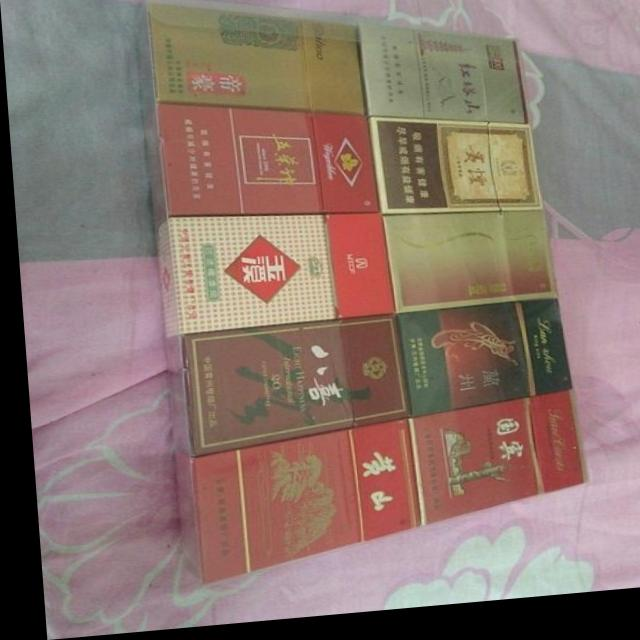box: (474, 154, 640, 343), (176, 184, 339, 369), (35, 200, 208, 372), (329, 171, 488, 356), (464, 34, 613, 171), (85, 76, 232, 210), (209, 62, 347, 198), (341, 48, 474, 184), (587, 27, 640, 157)
